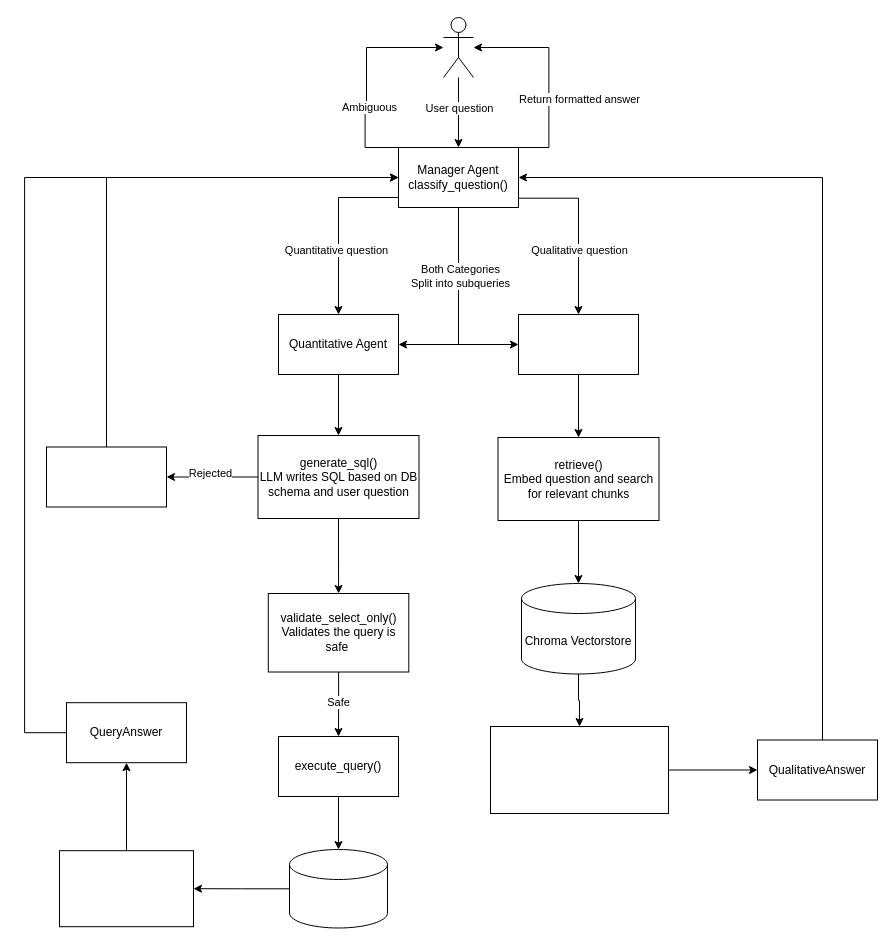
Some shapes in this 895 by 946 pixel diagram are drawn without their labels. Here are the shapes that lost their labels. From the top down, the centre of each, then its label:
the point at 578,344: Qualitative Agent
the point at 106,476: QueryAnswer.error
the point at 579,770: generate_answer() Generate LLM answer from relevant context
the point at 126,888: generate_insight() LLM generates insight based on results
the point at 338,888: SQLite DB
